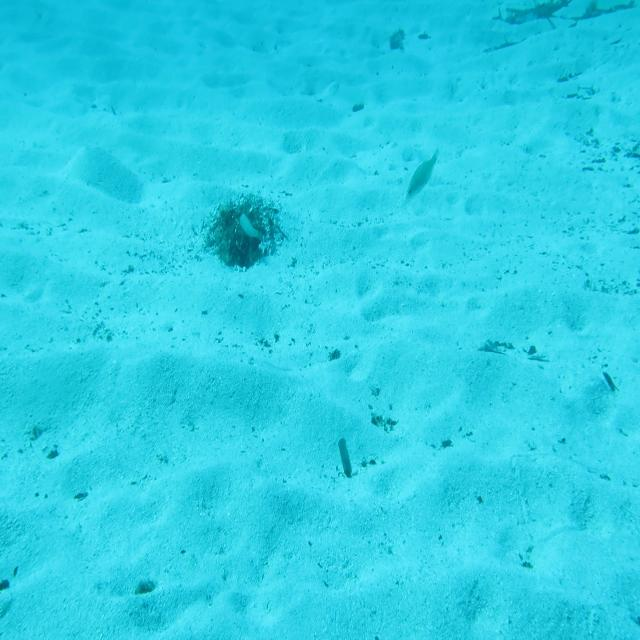LAND: (241, 209, 265, 243)
core_nest: (232, 219, 252, 233)
female: (401, 155, 443, 199)
nest: (202, 192, 286, 275)
vegetation: (500, 6, 554, 25), (478, 332, 514, 358), (615, 604, 640, 634), (339, 442, 356, 485), (132, 572, 160, 595), (599, 372, 615, 399), (387, 32, 403, 52)
